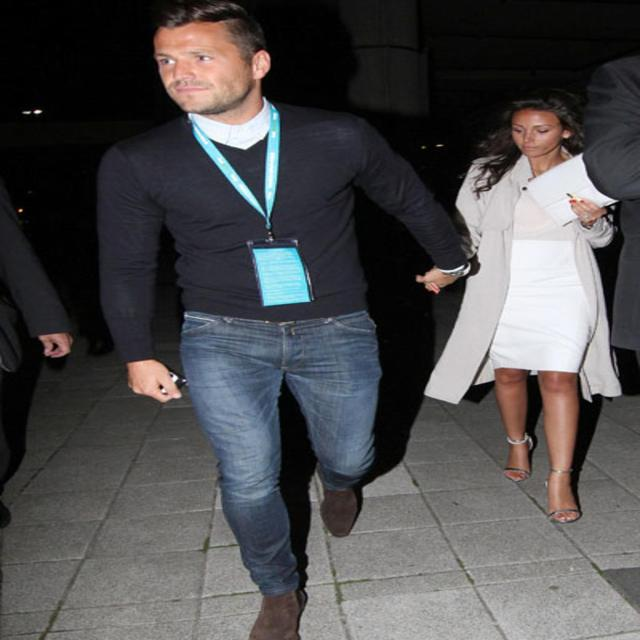nomask: (150, 21, 252, 115), (507, 108, 567, 158)
